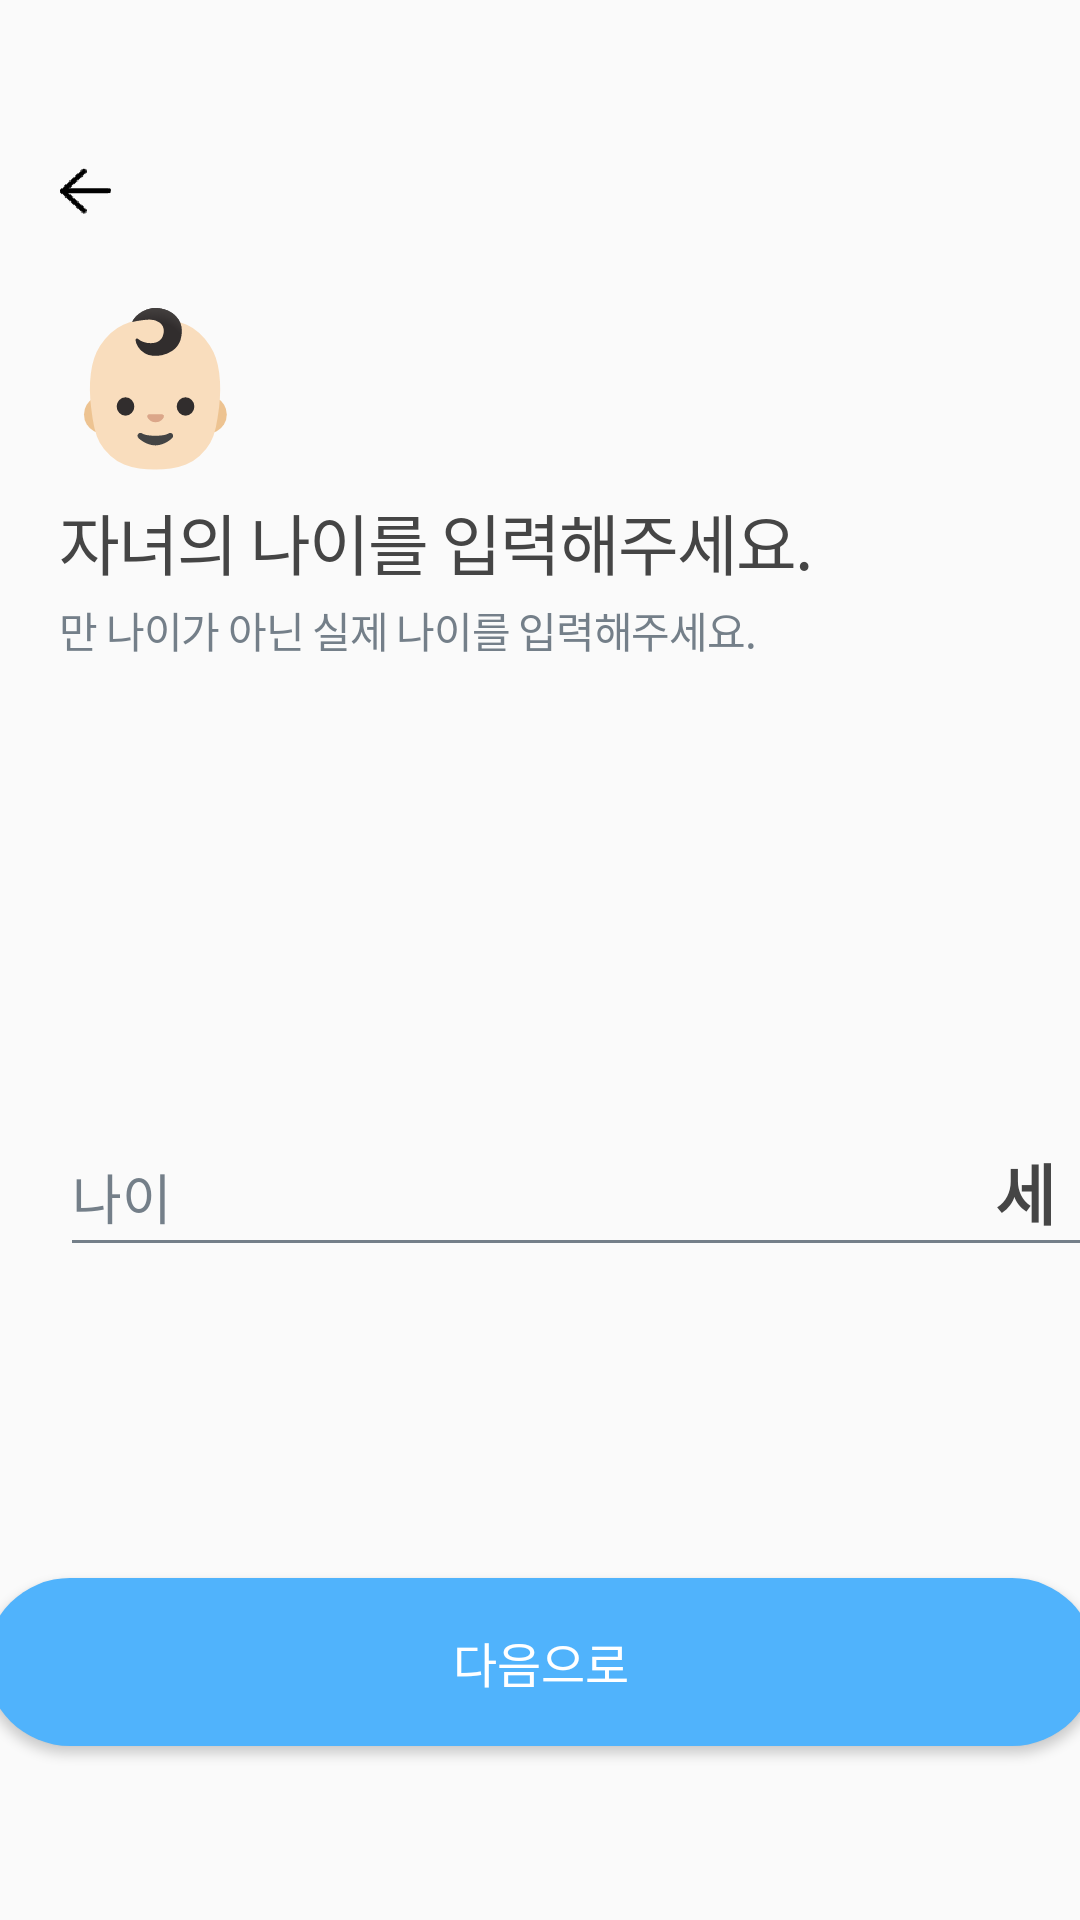

Screen size 1080w x 1920h. Icon name, then its box in pixels as box=[x1, y1, x2, y2]:
before: box=[60, 168, 111, 214]
